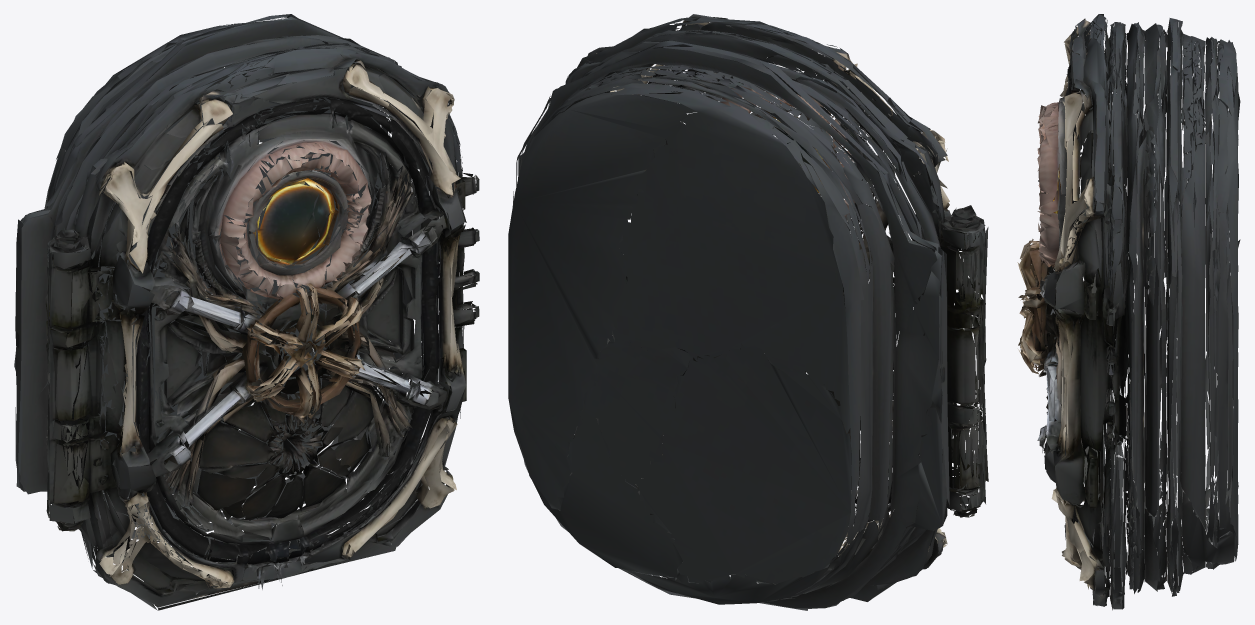
File: base_door_sealable_bulkhead.glb
The picture shows the model from 3 angles, left to right: view 1: azimuth 30°, elevation 25°; view 2: azimuth 150°, elevation 25°; view 3: azimuth 270°, elevation 25°; orthographic projection. The views are drawn at different scales.
Visible parts, largest first — view 1: HB_DOOR_00, HB_BODY; view 2: HB_DOOR_00, HB_BODY; view 3: HB_BODY, HB_DOOR_00.
Boxes of the visible parts, x1,y1,x2,y2 form: HB_DOOR_00: (46, 16, 446, 587); HB_BODY: (14, 14, 479, 610); HB_DOOR_00: (508, 23, 947, 603); HB_BODY: (508, 14, 988, 610); HB_BODY: (1044, 14, 1238, 610); HB_DOOR_00: (1017, 14, 1240, 590).
Size of the model in its own units: 0.9289 by 1.08 by 0.4237.
1 material, 1 textured.
